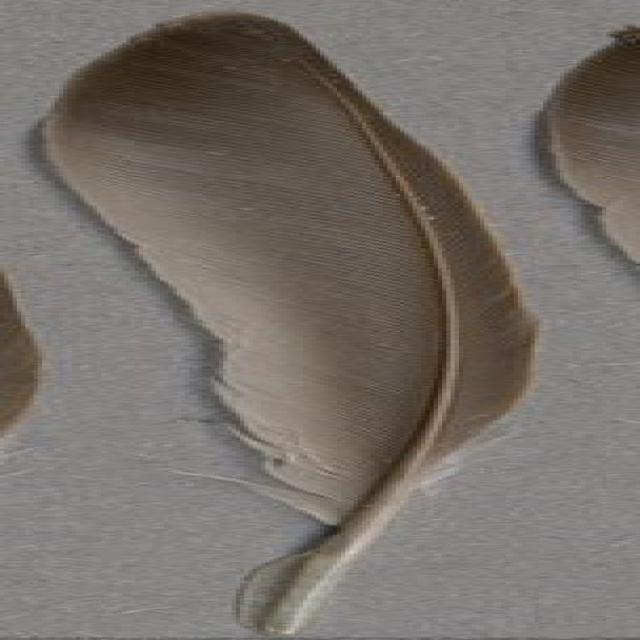feather: (50, 7, 556, 638)
